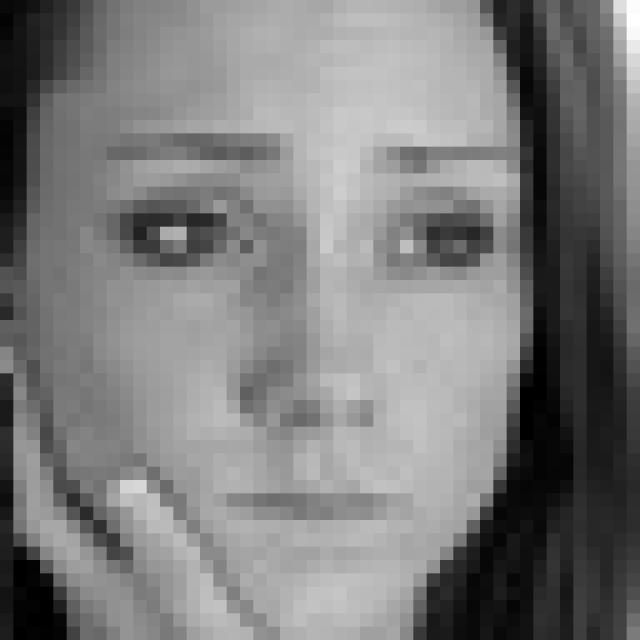fear: (102, 116, 528, 571)
